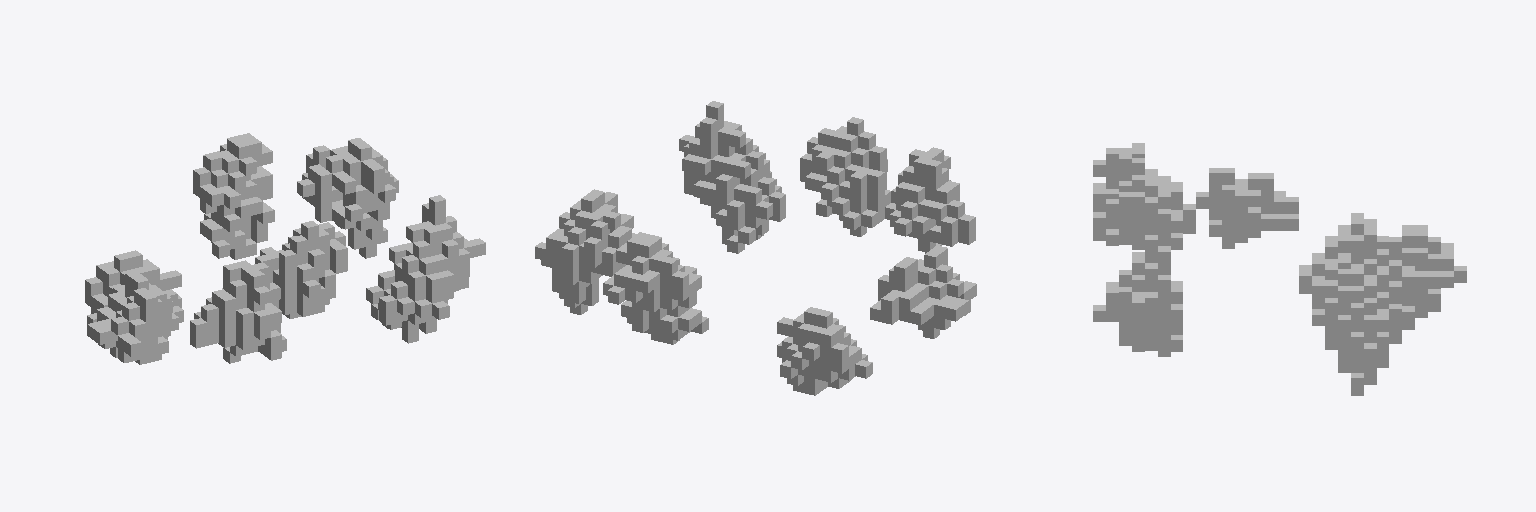
File: Leaf1.obj
3 renders of one model, left to right at view 1: azimuth 30°, elevation 25°; view 2: azimuth 150°, elevation 25°; view 3: azimuth 270°, elevation 25°, orthographic.
Visible parts, largest first — view 1: object 1; view 2: object 1; view 3: object 1.
Part boxes in pixels (left/top/right/bottom): object 1: left=85, top=133, right=485, bottom=364; object 1: left=535, top=101, right=976, bottom=395; object 1: left=1093, top=143, right=1466, bottom=395.
Size of the model in its own units: 3.2 by 1.5 by 2.9.